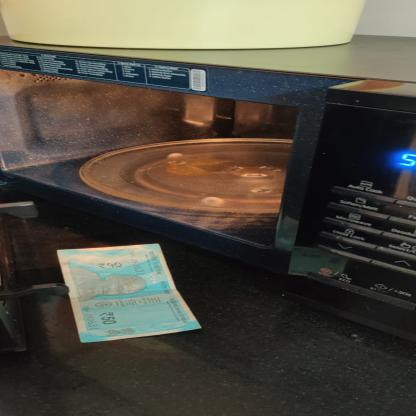New50Front: (55, 243, 204, 344)
